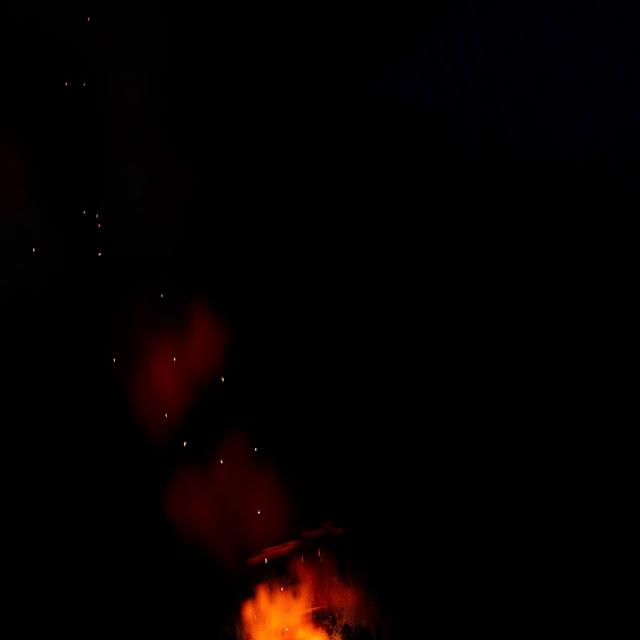fire: (237, 556, 362, 638)
smoke: (138, 304, 292, 567)
